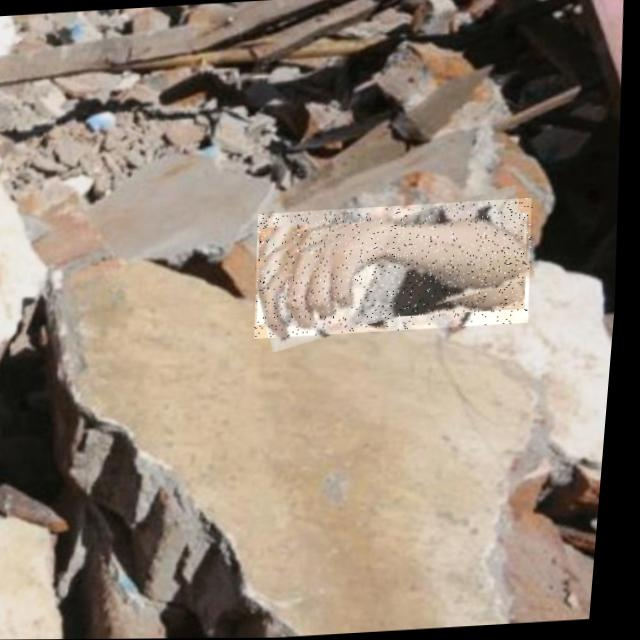Person in Rubble: (254, 199, 543, 339)
